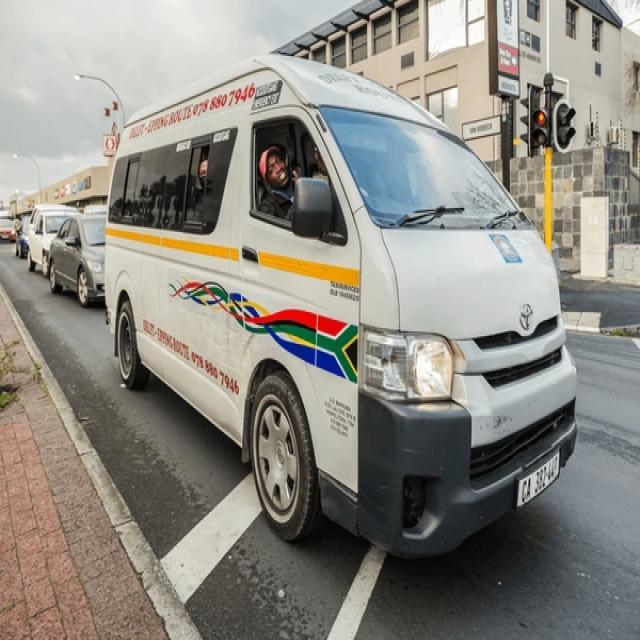toyota: (509, 298, 543, 333)
